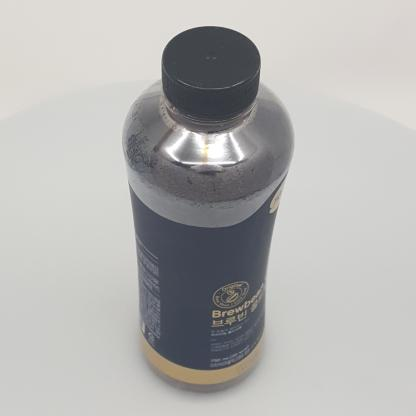-------------: (122, 26, 295, 393)
